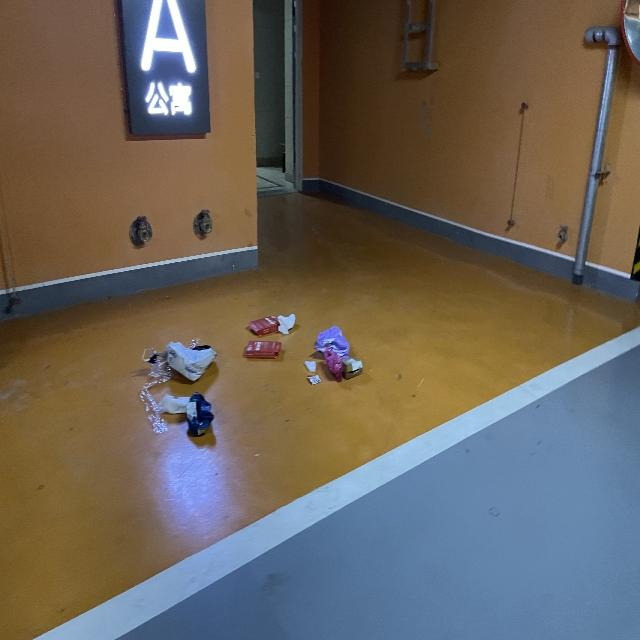garbage: (140, 308, 214, 437), (304, 322, 362, 383), (242, 312, 295, 358)
